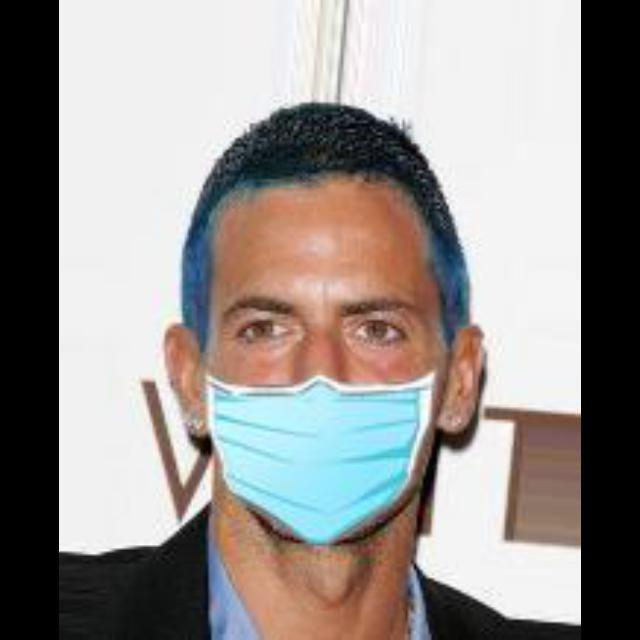suspicion: (166, 114, 530, 572)
